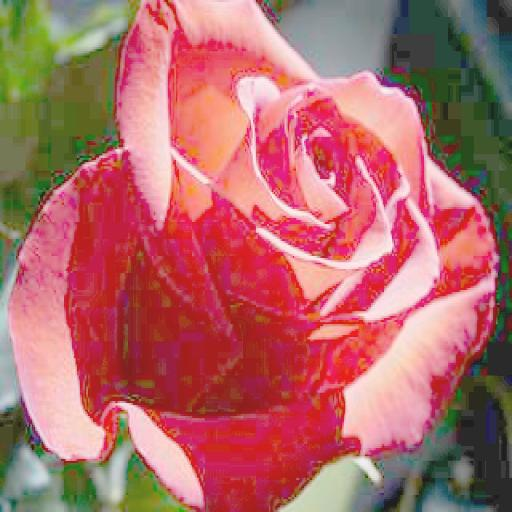rose: (0, 0, 493, 512)
